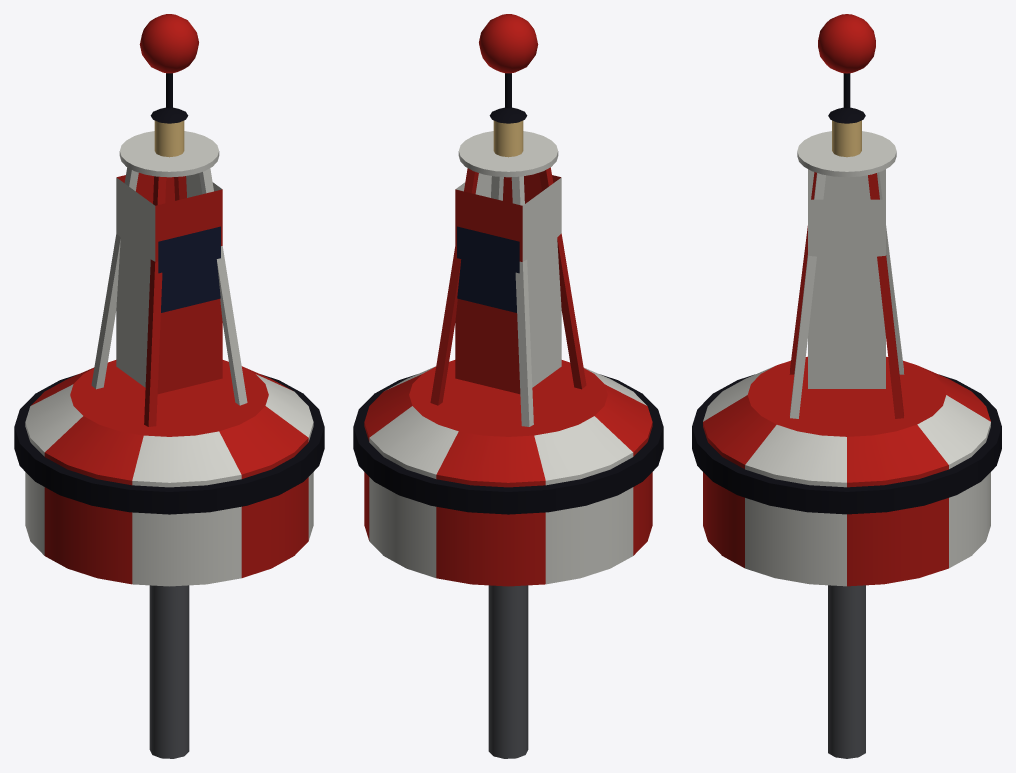
Rendered from buoy_safe_water.glb.
The picture shows the model from 3 angles, left to right: view 1: azimuth 30°, elevation 25°; view 2: azimuth 150°, elevation 25°; view 3: azimuth 270°, elevation 25°; orthographic projection.
Visible parts, largest first — view 1: buoy_safe_water; view 2: buoy_safe_water; view 3: buoy_safe_water.
Part boxes in pixels (left/top/right/bottom): buoy_safe_water: left=14, top=14, right=324, bottom=758; buoy_safe_water: left=353, top=14, right=663, bottom=758; buoy_safe_water: left=692, top=14, right=1001, bottom=758.
Size of the model in its own units: 3.12 by 8.15 by 3.12.
